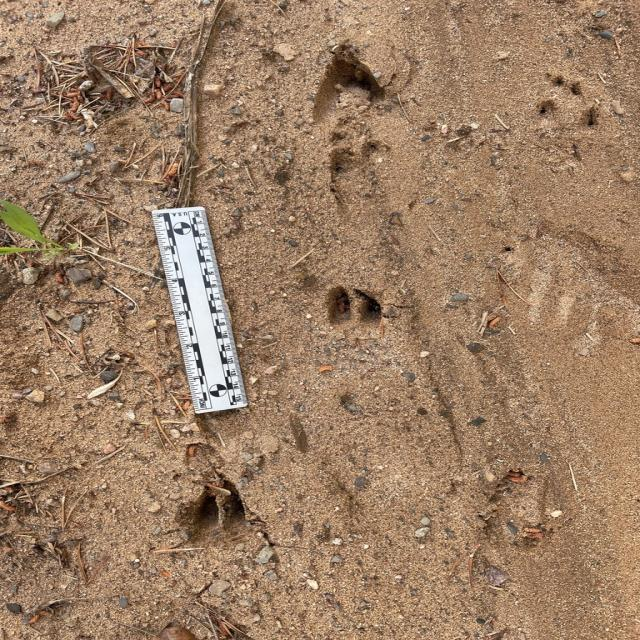deer: (197, 476, 250, 550), (325, 285, 388, 335)
